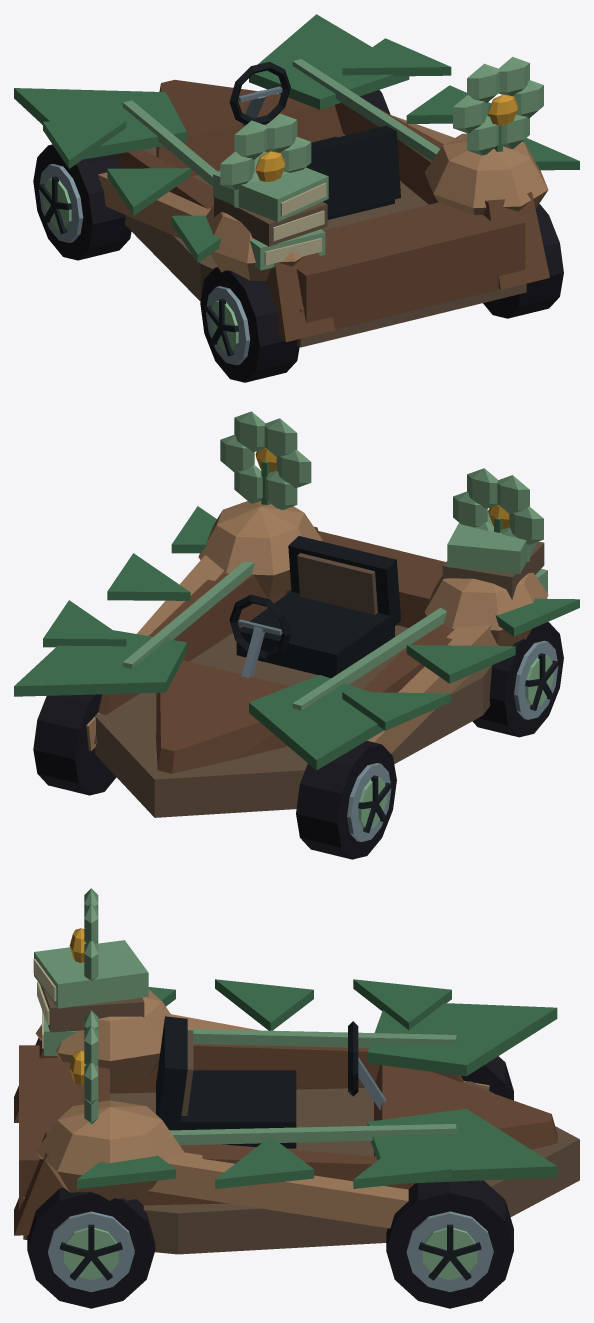
Rendered from kart.glb.
The picture shows the model from 3 angles, top to bottom: view 1: azimuth 30°, elevation 25°; view 2: azimuth 150°, elevation 25°; view 3: azimuth 270°, elevation 25°; orthographic projection. The views are drawn at different scales.
Parts seen in each view (by area): view 1: identity-nature-nature-root-cradle-and-leaf-bow, identity-nature-motif-leaves, identity-nature-motif-flowers, identity-nature-driver-cockpit, identity-nature-motif-books, wheel-rear-left, wheel-front-left, wheel-rear-right; view 2: identity-nature-nature-root-cradle-and-leaf-bow, identity-nature-driver-cockpit, identity-nature-motif-leaves, identity-nature-motif-flowers, wheel-front-left, wheel-rear-left, wheel-front-right, identity-nature-motif-books; view 3: identity-nature-nature-root-cradle-and-leaf-bow, identity-nature-motif-leaves, wheel-front-right, wheel-rear-right, identity-nature-driver-cockpit, identity-nature-motif-books, identity-nature-motif-flowers, wheel-front-left.
Boxes of the visible parts, bbox=[...] form: identity-nature-nature-root-cradle-and-leaf-bow: bbox=[14, 14, 549, 347]; identity-nature-motif-leaves: bbox=[43, 38, 579, 262]; identity-nature-motif-flowers: bbox=[220, 56, 543, 208]; identity-nature-driver-cockpit: bbox=[229, 61, 400, 219]; identity-nature-motif-books: bbox=[213, 151, 328, 270]; wheel-rear-left: bbox=[200, 267, 299, 382]; wheel-front-left: bbox=[33, 144, 131, 260]; wheel-rear-right: bbox=[483, 203, 563, 318]; identity-nature-nature-root-cradle-and-leaf-bow: bbox=[14, 501, 548, 817]; identity-nature-driver-cockpit: bbox=[229, 536, 400, 678]; identity-nature-motif-leaves: bbox=[43, 506, 579, 730]; identity-nature-motif-flowers: bbox=[220, 411, 543, 562]; wheel-front-left: bbox=[296, 741, 396, 859]; wheel-rear-left: bbox=[472, 622, 563, 737]; wheel-front-right: bbox=[33, 694, 116, 795]; identity-nature-motif-books: bbox=[442, 510, 547, 599]; identity-nature-nature-root-cradle-and-leaf-bow: bbox=[14, 989, 579, 1254]; identity-nature-motif-leaves: bbox=[77, 979, 451, 1188]; wheel-front-right: bbox=[386, 1180, 513, 1308]; wheel-rear-right: bbox=[27, 1187, 155, 1308]; identity-nature-driver-cockpit: bbox=[156, 1016, 385, 1148]; identity-nature-motif-books: bbox=[33, 940, 148, 1055]; identity-nature-motif-flowers: bbox=[69, 888, 98, 1124]; wheel-front-left: bbox=[461, 1056, 513, 1100].
Size of the model in its own units: 2.3 by 1.46 by 2.75.
